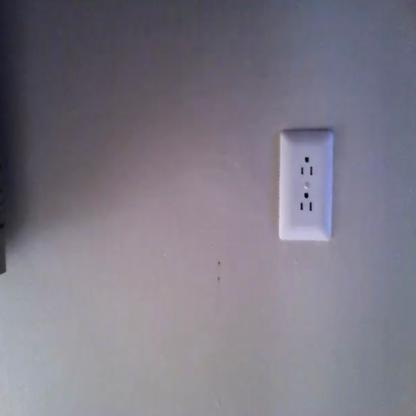OUTLET: (278, 129, 334, 240)
